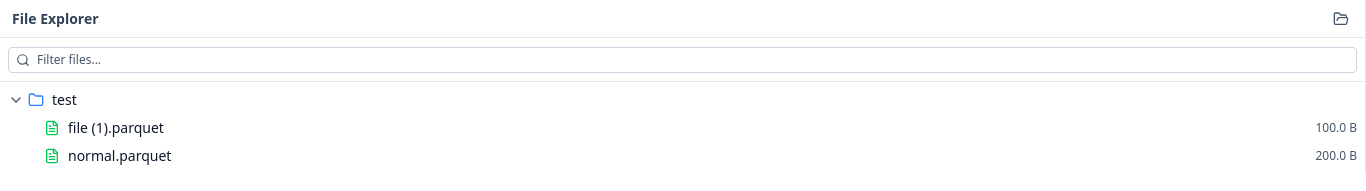
it: FileExplorer › search/filter › handles special characters in search query
This screenshot has width=1366, height=191.
Expected: the text "file (1).parquet" is shown, top-left (68, 118), bottom-right (164, 137)
Type "(1)" into the field with placeholder "Filter files...".
click(682, 60); type("(1)")  # box top-left (8, 47), bottom-right (1357, 73)
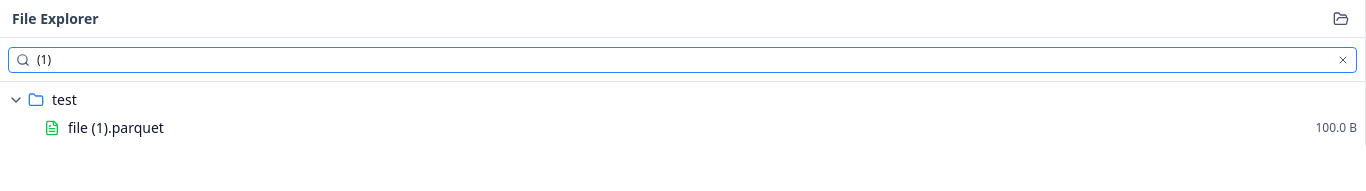
Expected: the text "file (1).parquet" is shown, top-left (68, 118), bottom-right (164, 137)
Result: the text "normal.parquet" is gone
